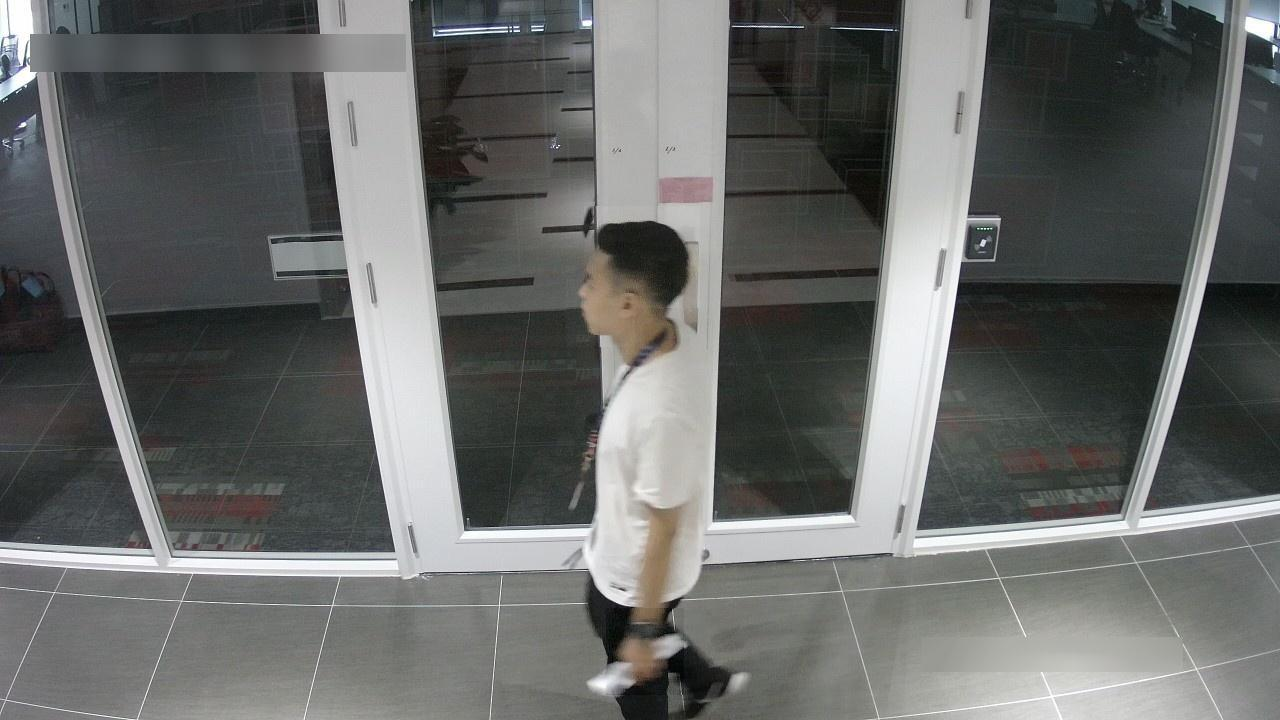no_apron: (607, 609, 685, 696)
no_gloves: (585, 207, 701, 309)
no_hairnet: (566, 280, 636, 348)
